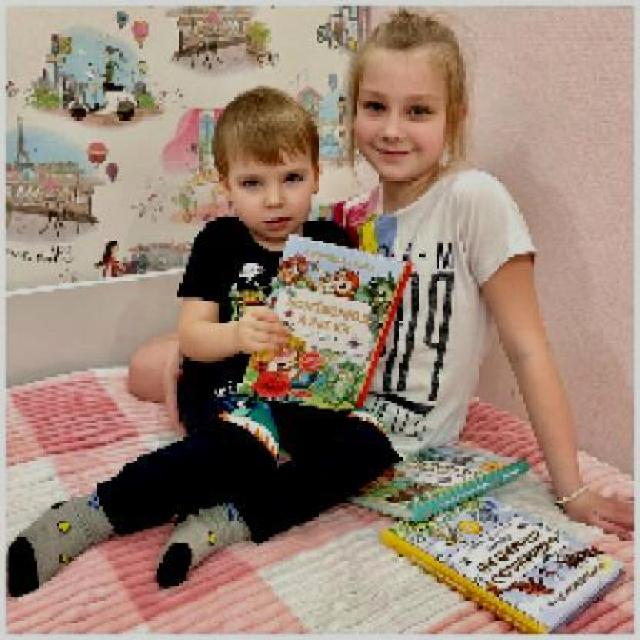child: (5, 87, 398, 599)
